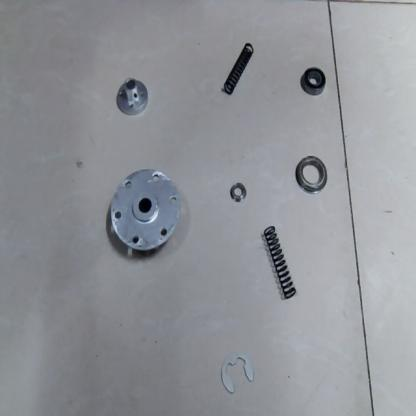FOD: (104, 166, 183, 258), (262, 221, 298, 305), (220, 37, 256, 99), (112, 76, 151, 118), (293, 154, 328, 194), (300, 63, 327, 96), (225, 181, 249, 206)
